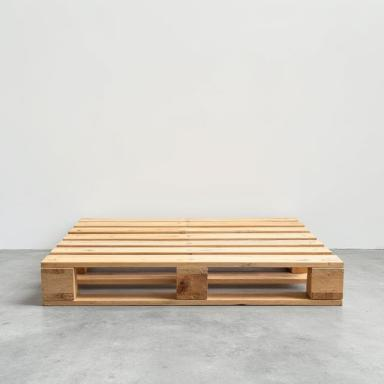pallet: (40, 216, 345, 306), (208, 267, 307, 293), (77, 279, 176, 294)
